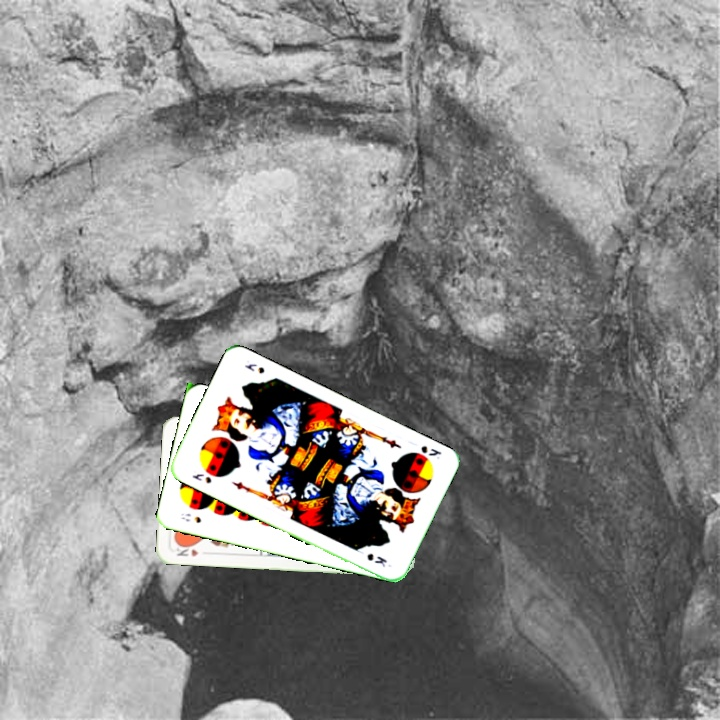HK: (170, 540, 201, 559)
S8: (177, 509, 204, 526)
SK: (417, 441, 444, 462), (188, 469, 214, 486)
